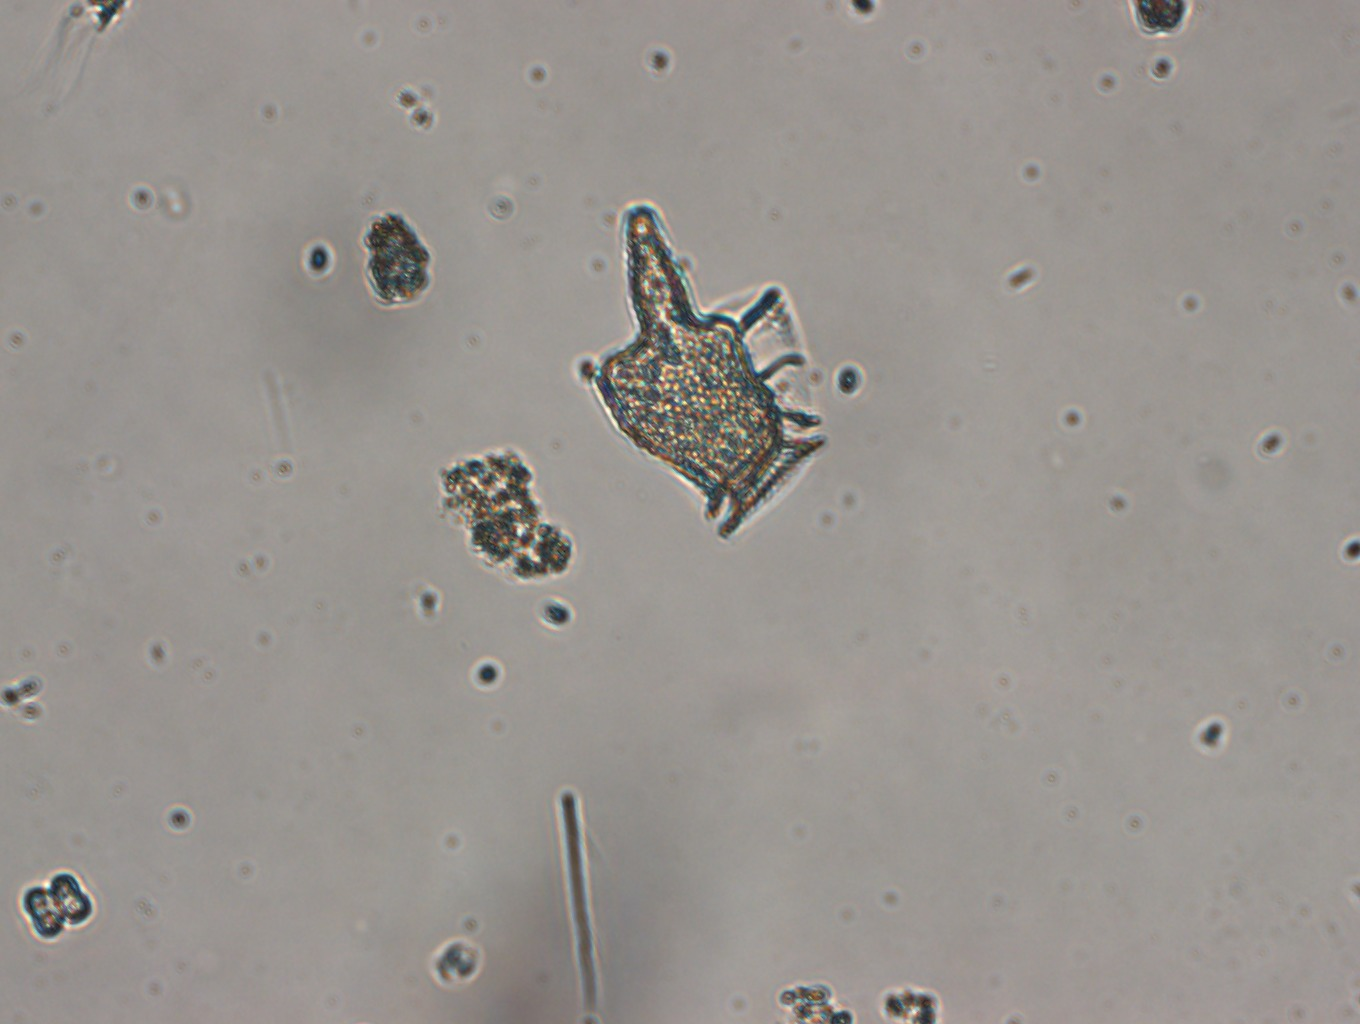dinophysis caudata: (595, 204, 827, 549)
